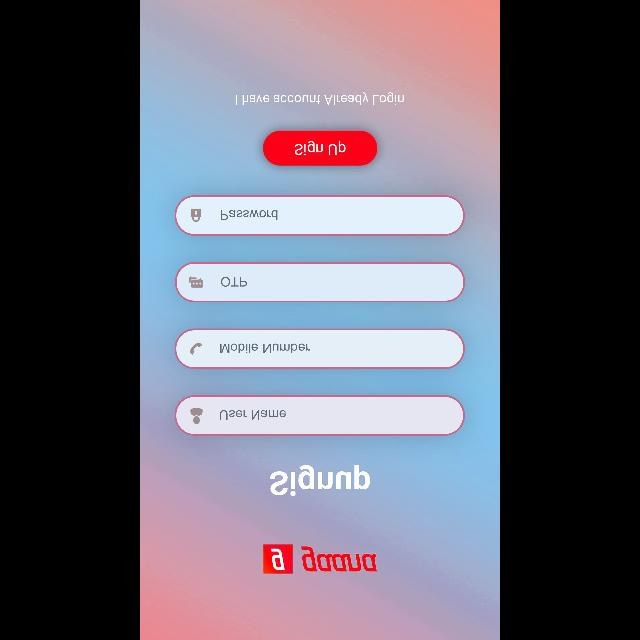icon: (190, 408, 203, 424), (189, 276, 203, 288), (191, 208, 201, 222)
image: (263, 544, 377, 574), (190, 342, 202, 354)
input: (175, 395, 465, 435), (175, 329, 465, 369), (175, 262, 465, 302), (175, 195, 465, 235)
text: (270, 464, 370, 496), (236, 92, 404, 106), (220, 343, 310, 353), (220, 410, 286, 420), (220, 210, 278, 220), (221, 276, 247, 286)
textbutton: (263, 130, 377, 166)
